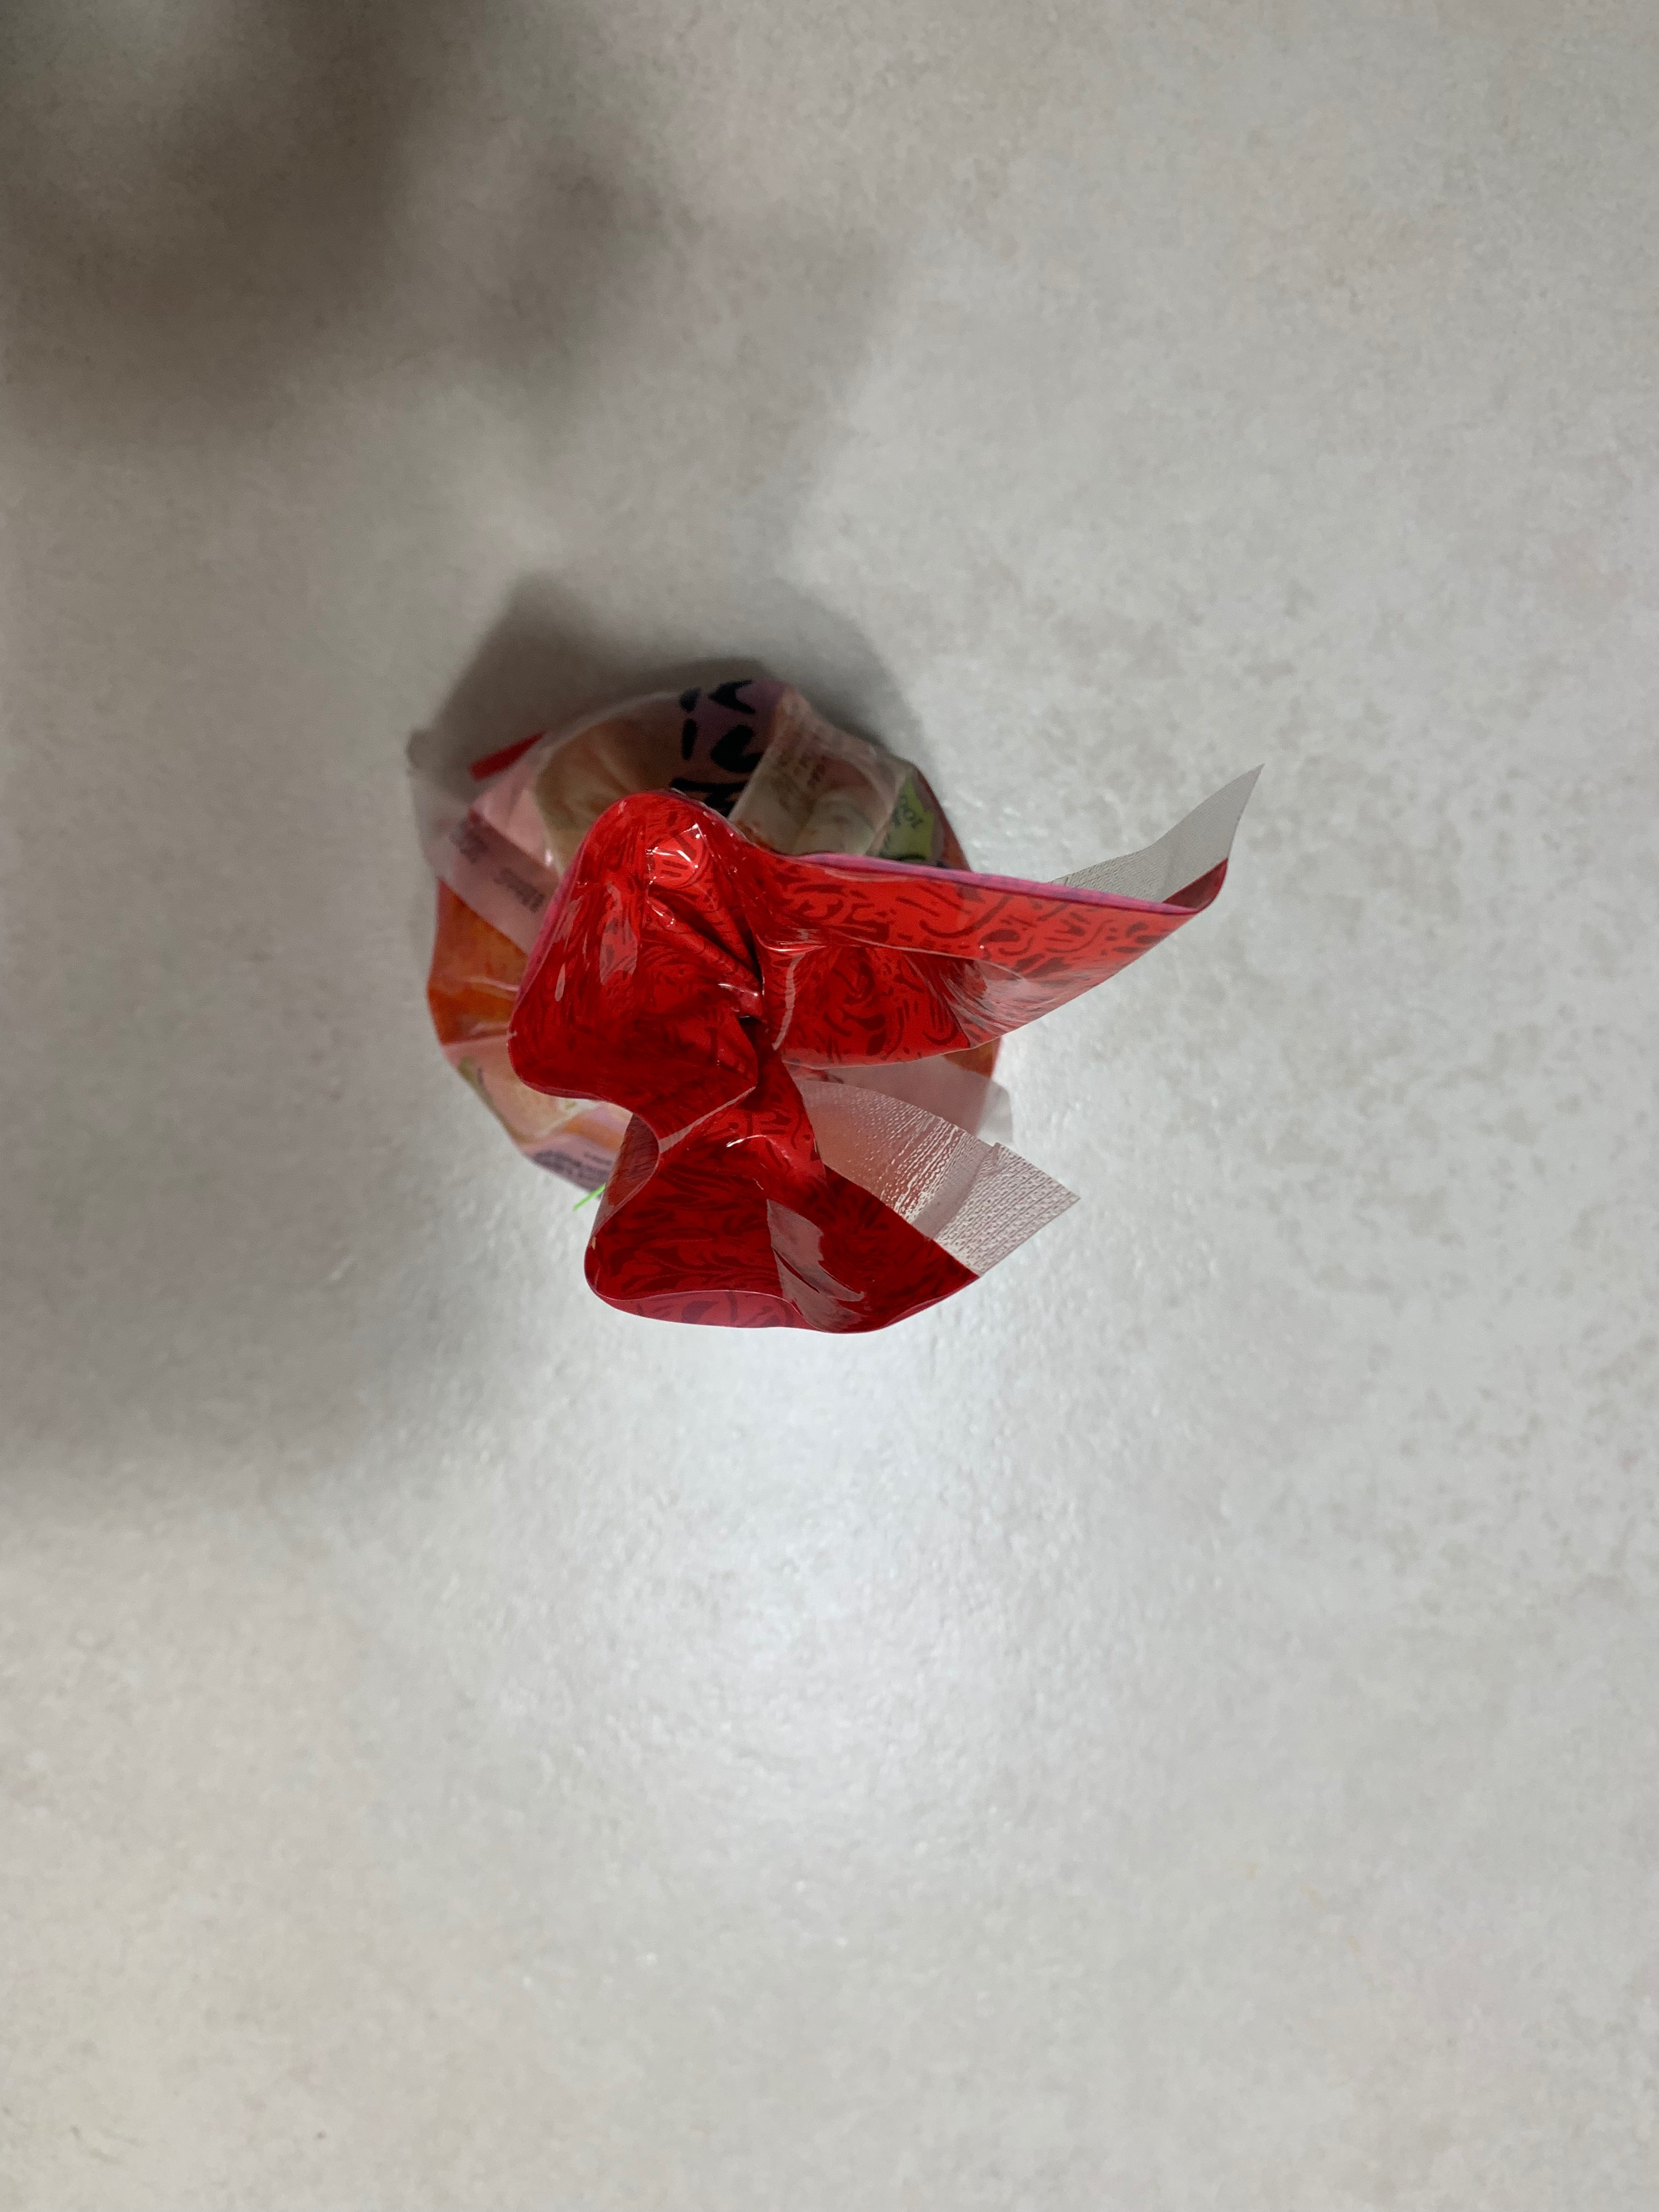kimchi: (423, 672, 1263, 1336)
